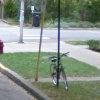Bicycle: (45, 45, 76, 92)
